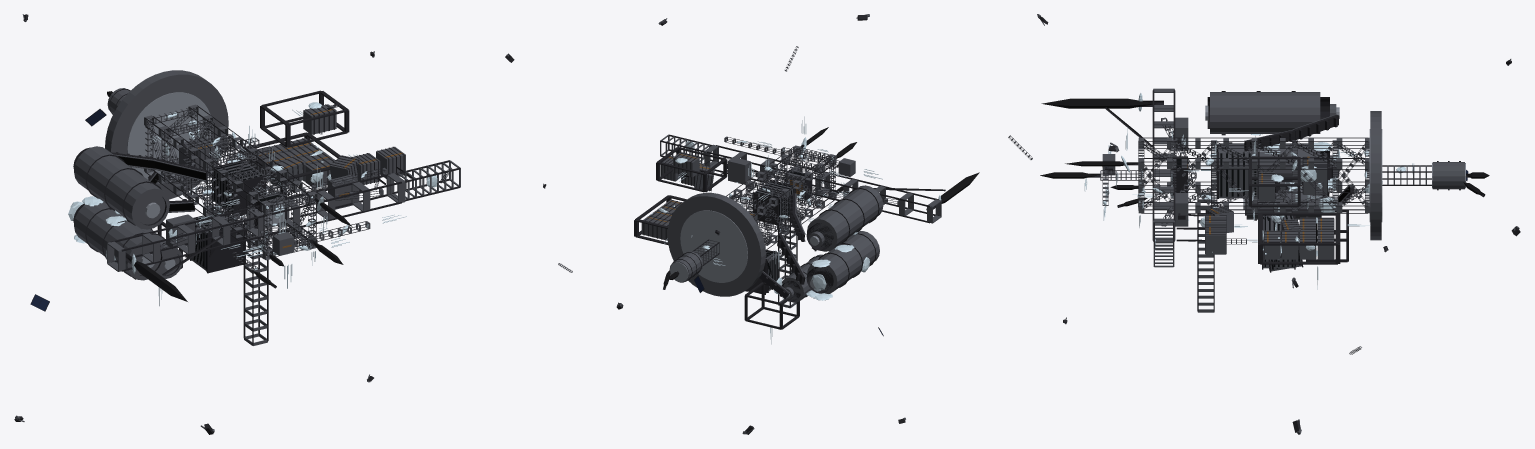
The model's file is bergbau_station.obj.
The picture shows the model from 3 angles, left to right: view 1: azimuth 30°, elevation 25°; view 2: azimuth 150°, elevation 25°; view 3: azimuth 270°, elevation 25°; orthographic projection. The views are drawn at different scales.
Visible parts, largest first — view 1: hull, hull2, pale, ice, light, window, dark; view 2: hull, hull2, pale, ice, light, window; view 3: hull, hull2, ice, light, window, pale.
Part boxes in pixels (x1,y1,x2,y2): hull: (15, 14, 511, 433); hull2: (14, 14, 514, 434); pale: (127, 92, 284, 269); ice: (68, 102, 437, 306); light: (107, 91, 352, 301); window: (188, 162, 281, 269); dark: (118, 156, 205, 211); hull: (543, 14, 941, 434); hull2: (543, 14, 945, 434); pale: (670, 210, 819, 298); ice: (651, 116, 941, 344); light: (663, 127, 979, 287); window: (756, 171, 807, 289); hull: (1008, 14, 1519, 434); hull2: (1009, 16, 1520, 432); ice: (1084, 93, 1414, 289); light: (1040, 98, 1489, 206); window: (1176, 153, 1300, 269); pale: (1172, 105, 1465, 221).
Bounding box in the file's own units: 49.86 × 50.55 × 56.99.
